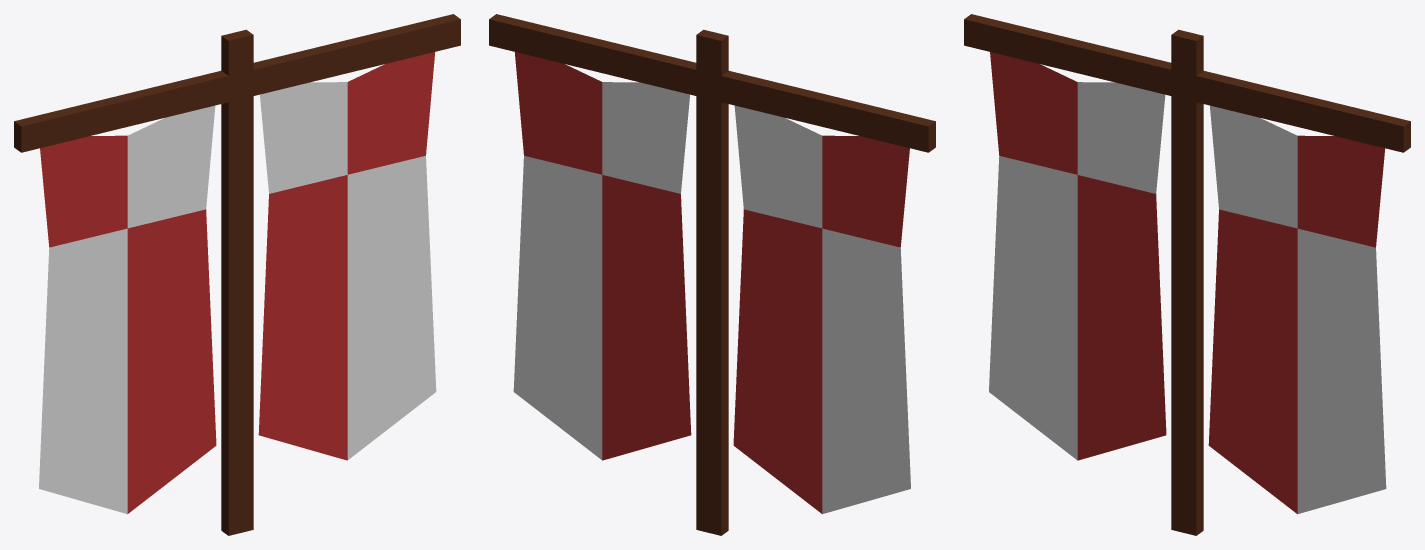
File: EstandarteBRosacruz.fbx
The picture shows the model from 3 angles, left to right: view 1: azimuth 30°, elevation 25°; view 2: azimuth 150°, elevation 25°; view 3: azimuth 330°, elevation 25°; orthographic projection.
Parts seen in each view (by area): view 1: Estandarte; view 2: Estandarte; view 3: Estandarte.
Part boxes in pixels (x1=…): Estandarte: x1=14, y1=14, x2=460, y2=535; Estandarte: x1=489, y1=14, x2=935, y2=535; Estandarte: x1=964, y1=14, x2=1410, y2=535.
Size of the model in its own units: 175 by 188 by 5.
